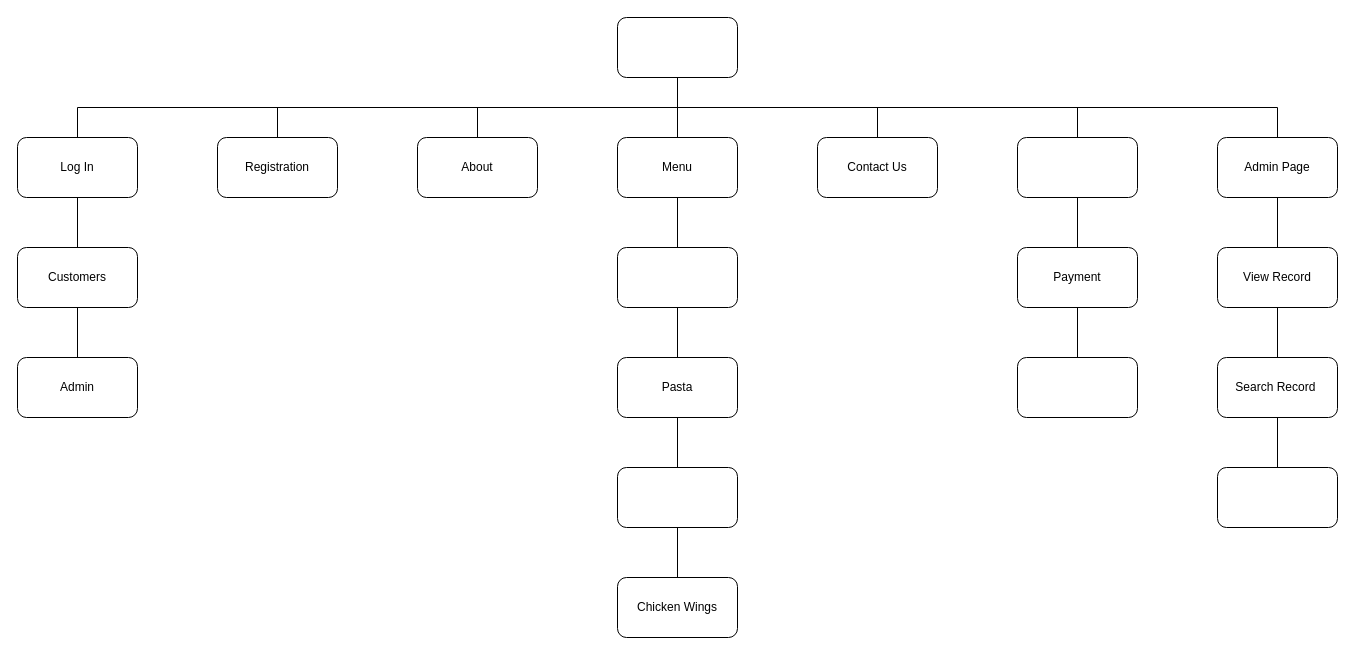
This 1355x655 diagram has some shape labels left out. The shapes that lost their labels are listed below. From the top down, each one's centre as x and y in pixels, then its label:
point (677, 47): Home
point (1077, 167): Order Page
point (677, 277): Burger
point (1077, 387): Confirmation
point (677, 497): Steak
point (1277, 497): Delete Record
